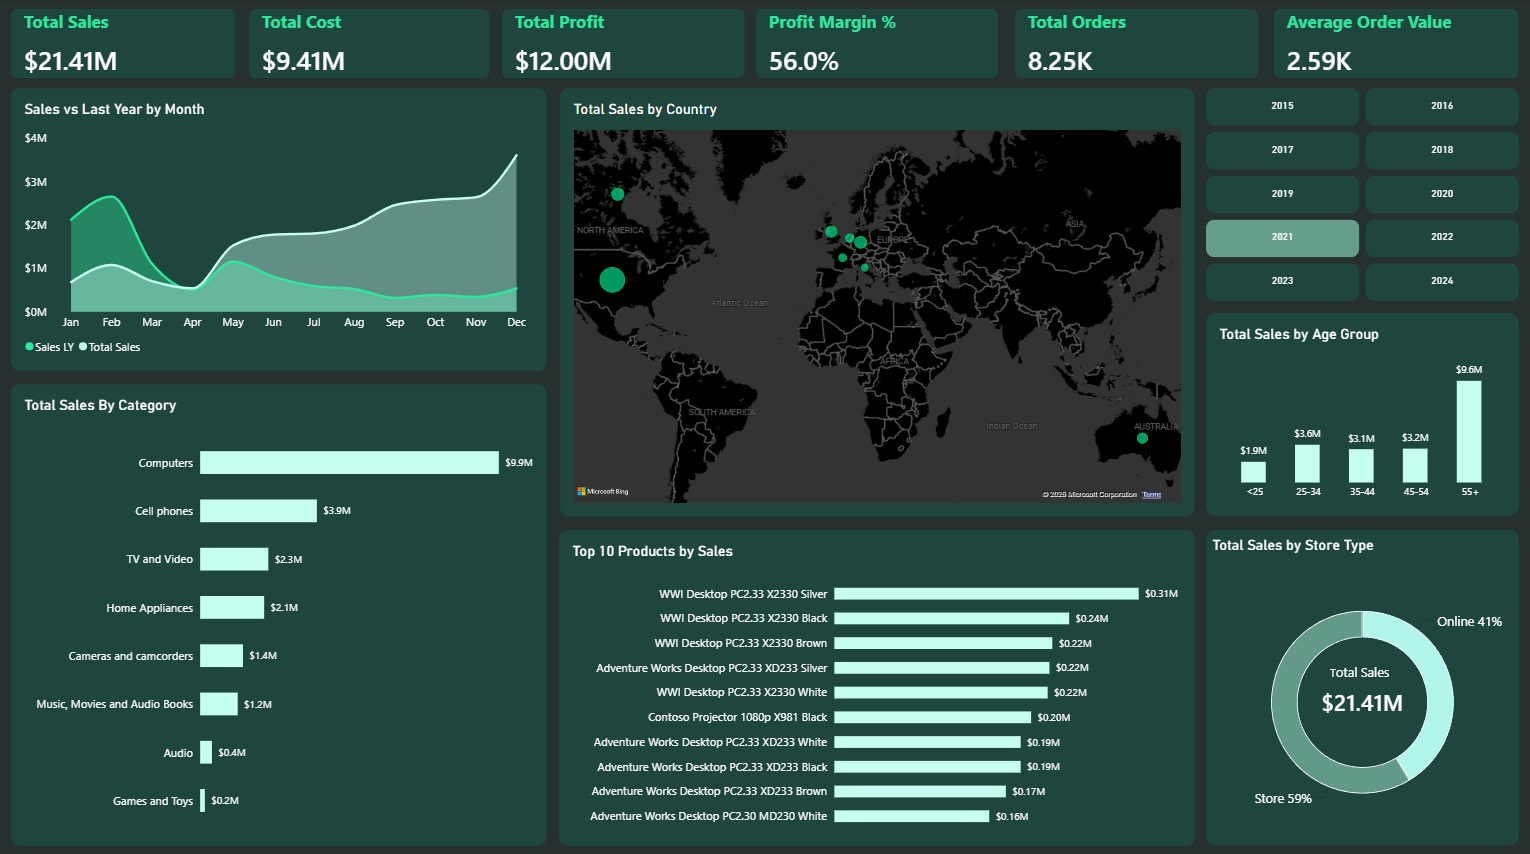

The page's visual inventory and layout, read from the dashboard file:
{"tool":"powerbi","page":{"name":"Page 1","canvas":[1920,1080],"ordinal":0},"visuals":[{"type":"cardVisual","fields":{"Data":["Measures (2).Total Sales"]},"box":[14.6,11.9,281.8,87.3],"z":0},{"type":"cardVisual","fields":{"Data":["Measures (2).Total Profit"]},"box":[629.9,11.9,304.3,87.3],"z":1000},{"type":"cardVisual","fields":{"Data":["Measures (2).Total Cost"]},"box":[313.6,11.9,301.7,87.3],"z":2000},{"type":"cardVisual","fields":{"Data":["Measures (2).Profit Margin %"]},"box":[948.8,11.9,303,87.3],"z":3000},{"type":"cardVisual","fields":{"Data":["Measures (2).Total Orders"]},"box":[1272.9,11.9,305.7,87.3],"z":4000},{"type":"areaChart","title":"Sales vs Last Year by Month","fields":{"Category":["Date.MonthShort"],"Y":["Measures (2).Sales LY","Measures (2).Total Sales"]},"box":[15.1,111.9,670.8,355.4],"z":5000},{"type":"advancedSlicerVisual","fields":{"Values":["Date.Year"]},"box":[1512.3,111.5,392,268.3],"z":6000},{"type":"clusteredBarChart","title":"Total Sales By Category","fields":{"Category":["Product.Category"],"Y":["Measures (2).Total Sales"]},"box":[15.1,482.3,671.2,579],"z":7000},{"type":"map","title":"Total Sales by Country","fields":{"Category":["Store.Country","Customer.City"],"Size":["Measures (2).Total Sales"]},"box":[703,111.9,795.2,536.7],"z":8000},{"type":"clusteredBarChart","title":"Top 10 Products by Sales","fields":{"Category":["Product.ProductName"],"Y":["Measures (2).Total Sales"]},"box":[701.5,665.2,796.7,396.1],"z":9000},{"type":"donutChart","title":"Total Sales by Store Type","fields":{"Category":["Store.Store Type"],"Y":["Measures (2).Total Sales"]},"box":[1512.3,665.6,392,395.5],"z":10000},{"type":"cardVisual","fields":{"Data":["Measures (2).Average Order Value"]},"box":[1597.1,11.9,307,87.3],"z":11000},{"type":"clusteredColumnChart","title":"Total Sales by Age Group","fields":{"Category":["Customer.Age Group"],"Y":["Measures (2).Total Sales"]},"box":[1512.3,393.8,392,254.4],"z":12000},{"type":"textbox","box":[1668,832,113.4,37.8],"z":13000}]}

Visuals, with their boxes in screenshot pixels (x1, y1, x2, y2), scaled from the page's 1920x1080 canvas onto the 1530x854 screenshot:
cardVisual - Measures (2).Total Sales: {"left": 12, "top": 9, "right": 236, "bottom": 78}
cardVisual - Measures (2).Total Profit: {"left": 502, "top": 9, "right": 744, "bottom": 78}
cardVisual - Measures (2).Total Cost: {"left": 250, "top": 9, "right": 490, "bottom": 78}
cardVisual - Measures (2).Profit Margin %: {"left": 756, "top": 9, "right": 998, "bottom": 78}
cardVisual - Measures (2).Total Orders: {"left": 1014, "top": 9, "right": 1258, "bottom": 78}
"Sales vs Last Year by Month" areaChart: {"left": 12, "top": 88, "right": 547, "bottom": 370}
advancedSlicerVisual - Date.Year: {"left": 1205, "top": 88, "right": 1517, "bottom": 300}
"Total Sales By Category" clusteredBarChart: {"left": 12, "top": 381, "right": 547, "bottom": 839}
"Total Sales by Country" map: {"left": 560, "top": 88, "right": 1194, "bottom": 513}
"Top 10 Products by Sales" clusteredBarChart: {"left": 559, "top": 526, "right": 1194, "bottom": 839}
"Total Sales by Store Type" donutChart: {"left": 1205, "top": 526, "right": 1517, "bottom": 839}
cardVisual - Measures (2).Average Order Value: {"left": 1273, "top": 9, "right": 1517, "bottom": 78}
"Total Sales by Age Group" clusteredColumnChart: {"left": 1205, "top": 311, "right": 1517, "bottom": 513}
textbox: {"left": 1329, "top": 658, "right": 1420, "bottom": 688}
